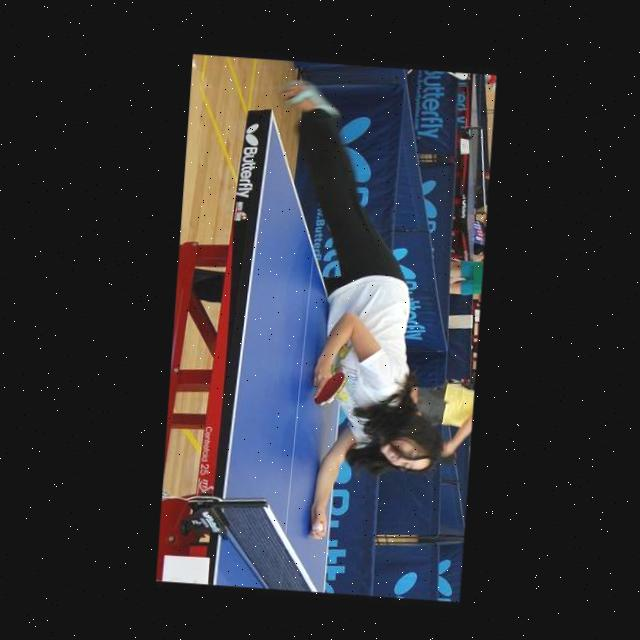ping-pong-ball: (309, 518, 324, 534)
